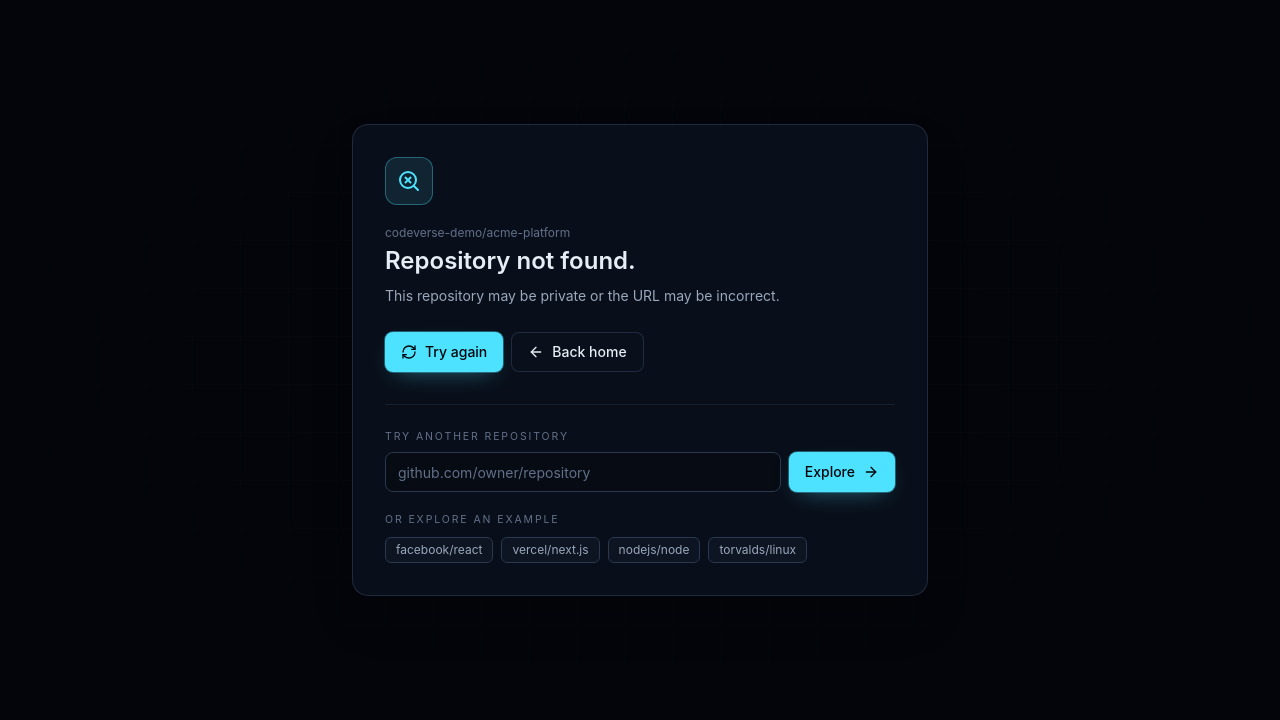
it: ExplorerApp › shows a recoverable error screen and retries
Expected: the heading "Repository not found." is shown, [385,246,636,275]
What coordinates should you click on to do the following:
click the button "Try again"
I would click on:
 (444, 352)
Its box is [385,332,503,372].
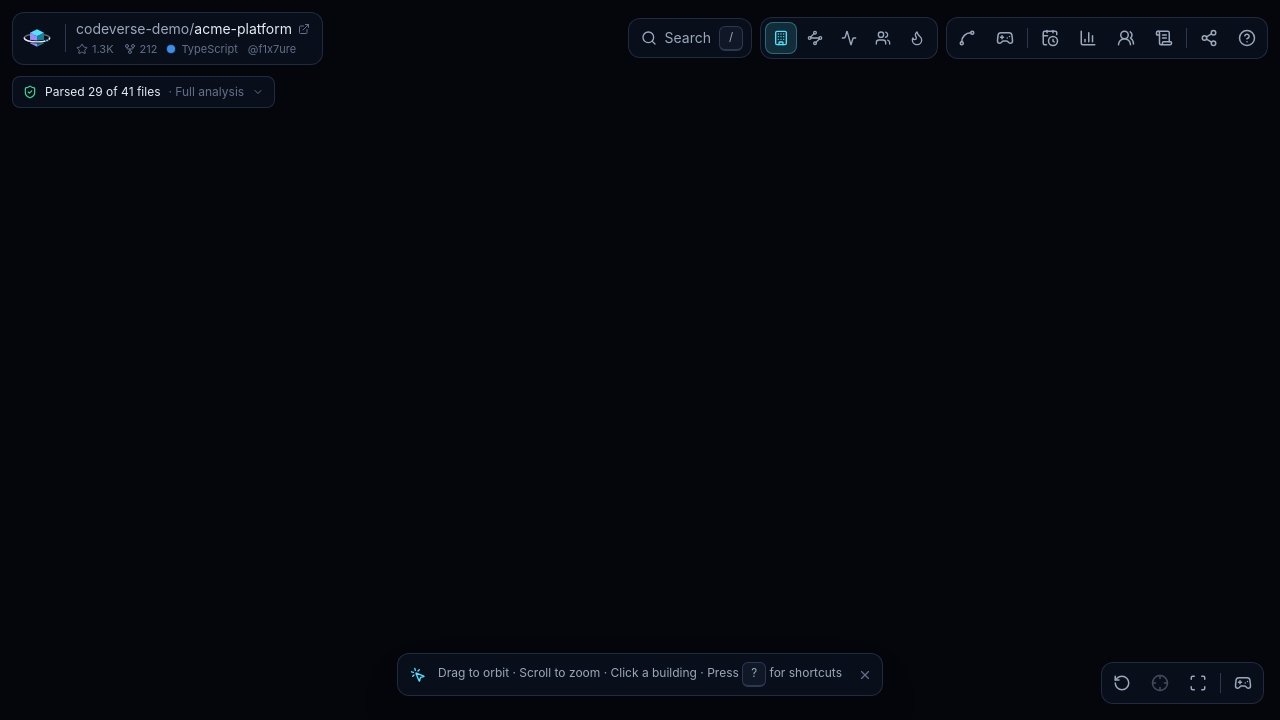
Expected: the navigation bar named "Explorer tools" is shown, [628,17,1268,59]
